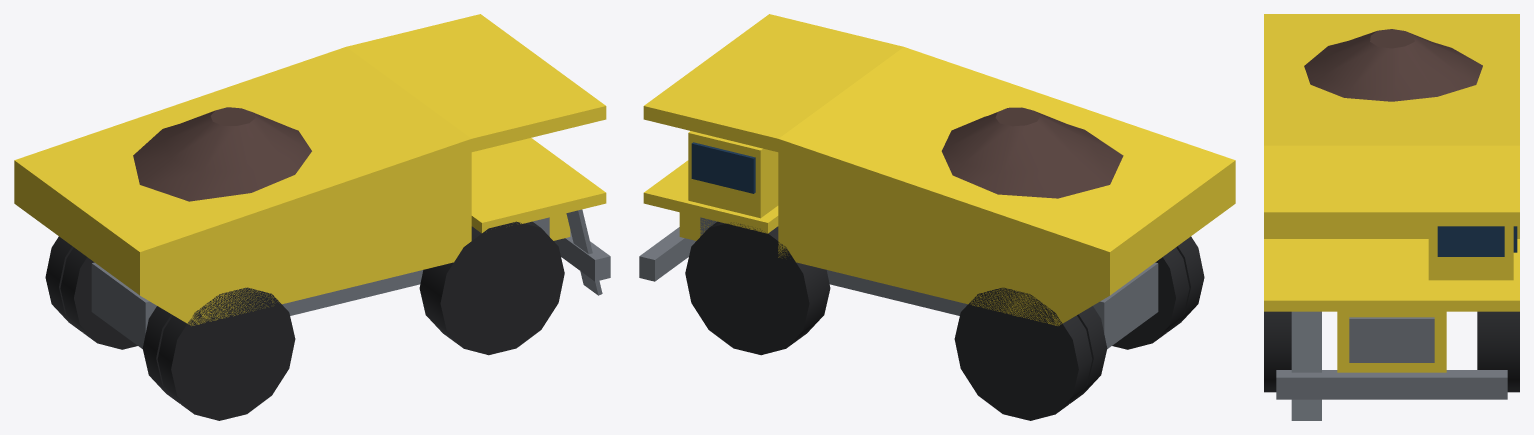
File: site_truck.fbx
The picture shows the model from 3 angles, left to right: view 1: azimuth 30°, elevation 25°; view 2: azimuth 150°, elevation 25°; view 3: azimuth 270°, elevation 25°; orthographic projection.
Visible parts, largest first — view 1: a1022/0/site_truck; view 2: a1022/0/site_truck; view 3: a1022/0/site_truck.
Part boxes in pixels (x1,y1,x2,y2): a1022/0/site_truck: (14, 14, 610, 420); a1022/0/site_truck: (639, 14, 1235, 420); a1022/0/site_truck: (1264, 14, 1519, 420).
Bounding box in the file's own units: 9.2 × 4.42 × 4.2.
